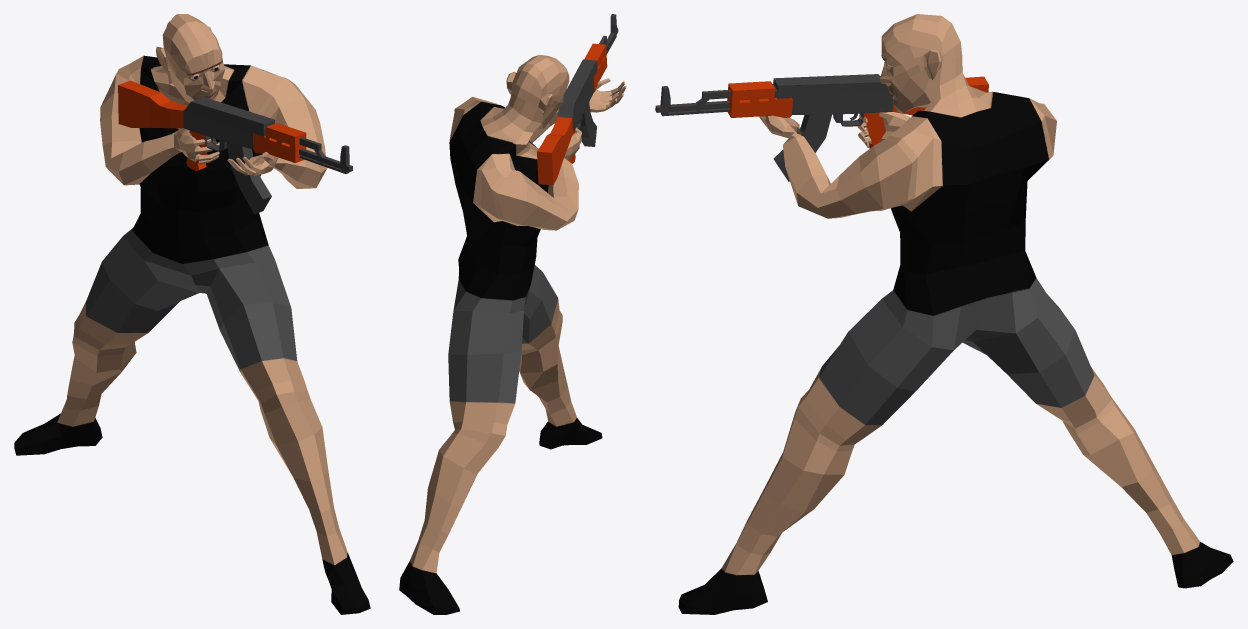
File: PlayerShoot(8).obj
3 renders of one model, left to right at view 1: azimuth 30°, elevation 25°; view 2: azimuth 150°, elevation 25°; view 3: azimuth 270°, elevation 25°, orthographic. The views are drawn at different scales.
Parts seen in each view (by area): view 1: Plane002, Object001; view 2: Plane002, Object001; view 3: Plane002, Object001.
Part boxes in pixels (bbox=[...]): Plane002: bbox=[14, 14, 370, 614]; Object001: bbox=[118, 80, 352, 214]; Plane002: bbox=[399, 55, 626, 614]; Object001: bbox=[537, 14, 618, 185]; Plane002: bbox=[678, 14, 1233, 614]; Object001: bbox=[655, 74, 988, 181].
Bounding box in the file's own units: 536 × 1639 × 1530.
